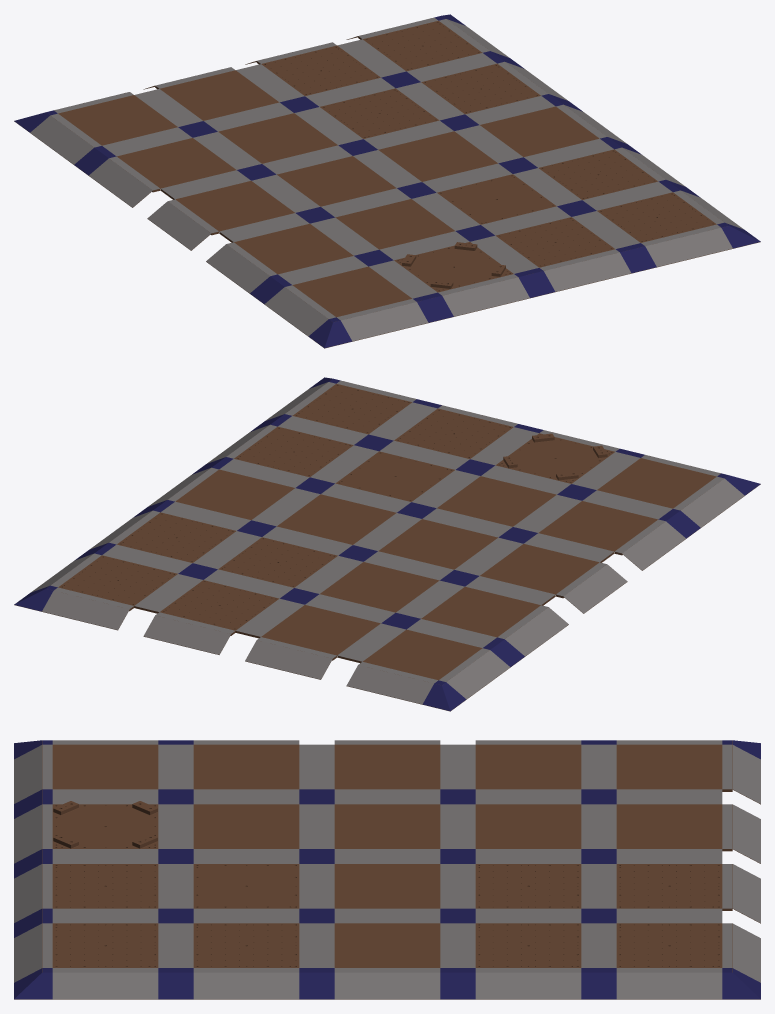
The model's file is floor_irb6640.dae.
3 renders of one model, top to bottom at view 1: azimuth 30°, elevation 25°; view 2: azimuth 150°, elevation 25°; view 3: azimuth 270°, elevation 25°, orthographic. The views are drawn at different scales.
Visible parts, largest first — view 1: node; view 2: node; view 3: node.
Part boxes in pixels (left/top/right/bottom): node: left=14, top=14, right=760, bottom=348; node: left=14, top=377, right=760, bottom=711; node: left=14, top=740, right=760, bottom=999.
Bounding box in the file's own units: 4.3 × 5.3 × 0.148.
